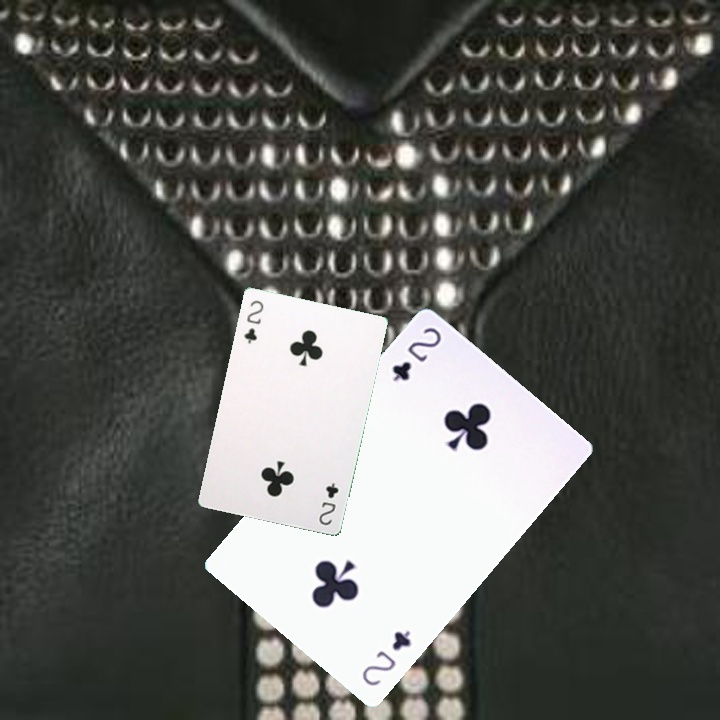2c: (357, 626, 414, 689), (388, 323, 444, 384), (240, 296, 266, 346), (315, 478, 341, 528)
